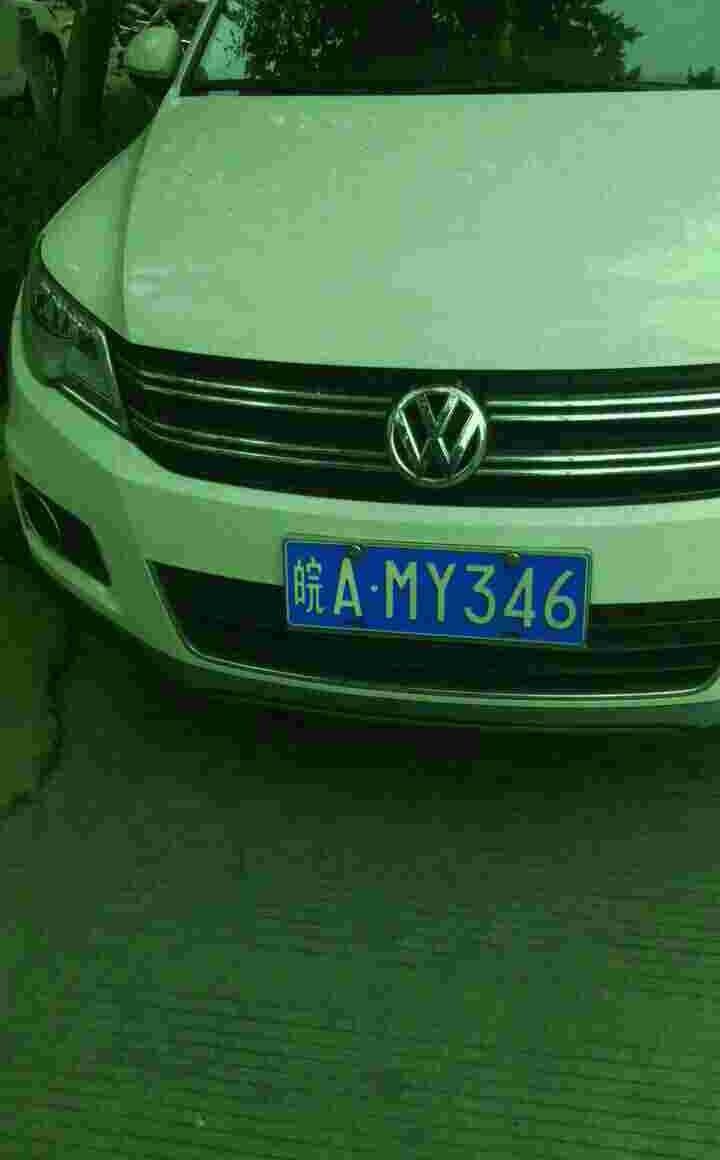license_plate: (280, 543, 595, 650)
